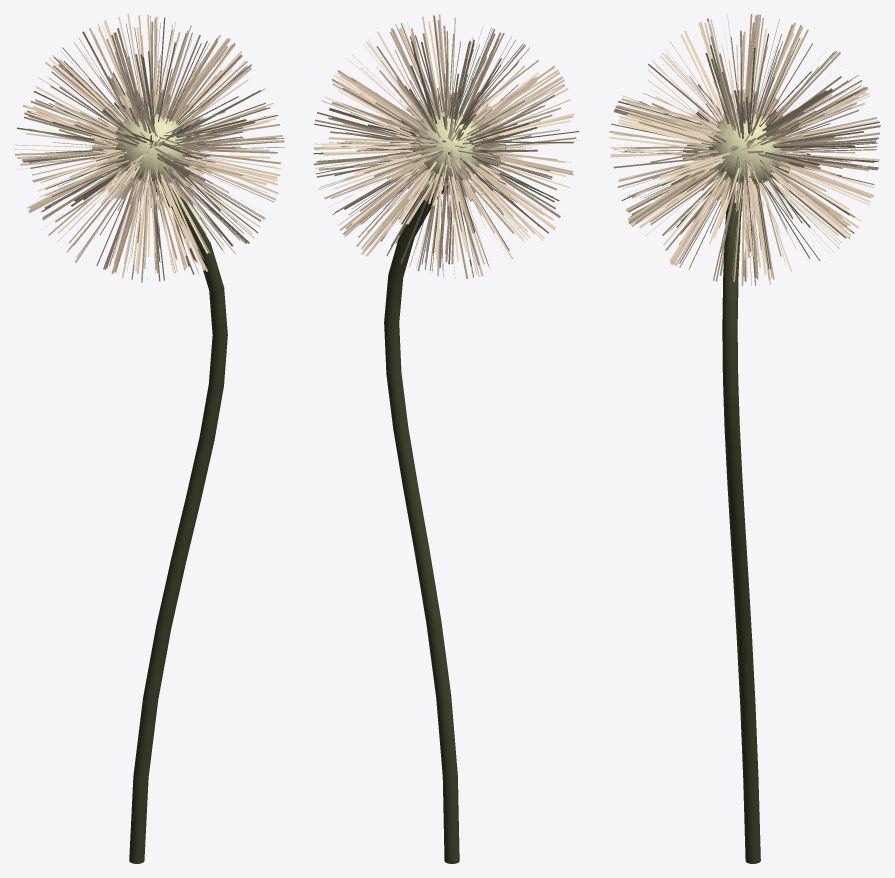
File: dandelion.fbx
3 views of the same model, side by side, from view 1: azimuth 30°, elevation 25°; view 2: azimuth 150°, elevation 25°; view 3: azimuth 270°, elevation 25° (orthographic).
Parts seen in each view (by area): view 1: BezierCurve, Cube; view 2: BezierCurve, Cube; view 3: BezierCurve, Cube.
Part boxes in pixels (bbox=[...]): BezierCurve: bbox=[129, 183, 227, 863]; Cube: bbox=[112, 111, 187, 185]; BezierCurve: bbox=[384, 185, 459, 863]; Cube: bbox=[409, 111, 483, 185]; BezierCurve: bbox=[722, 188, 760, 863]; Cube: bbox=[708, 113, 782, 187].
Bounding box in the file's own units: 379 × 1290 × 379.
